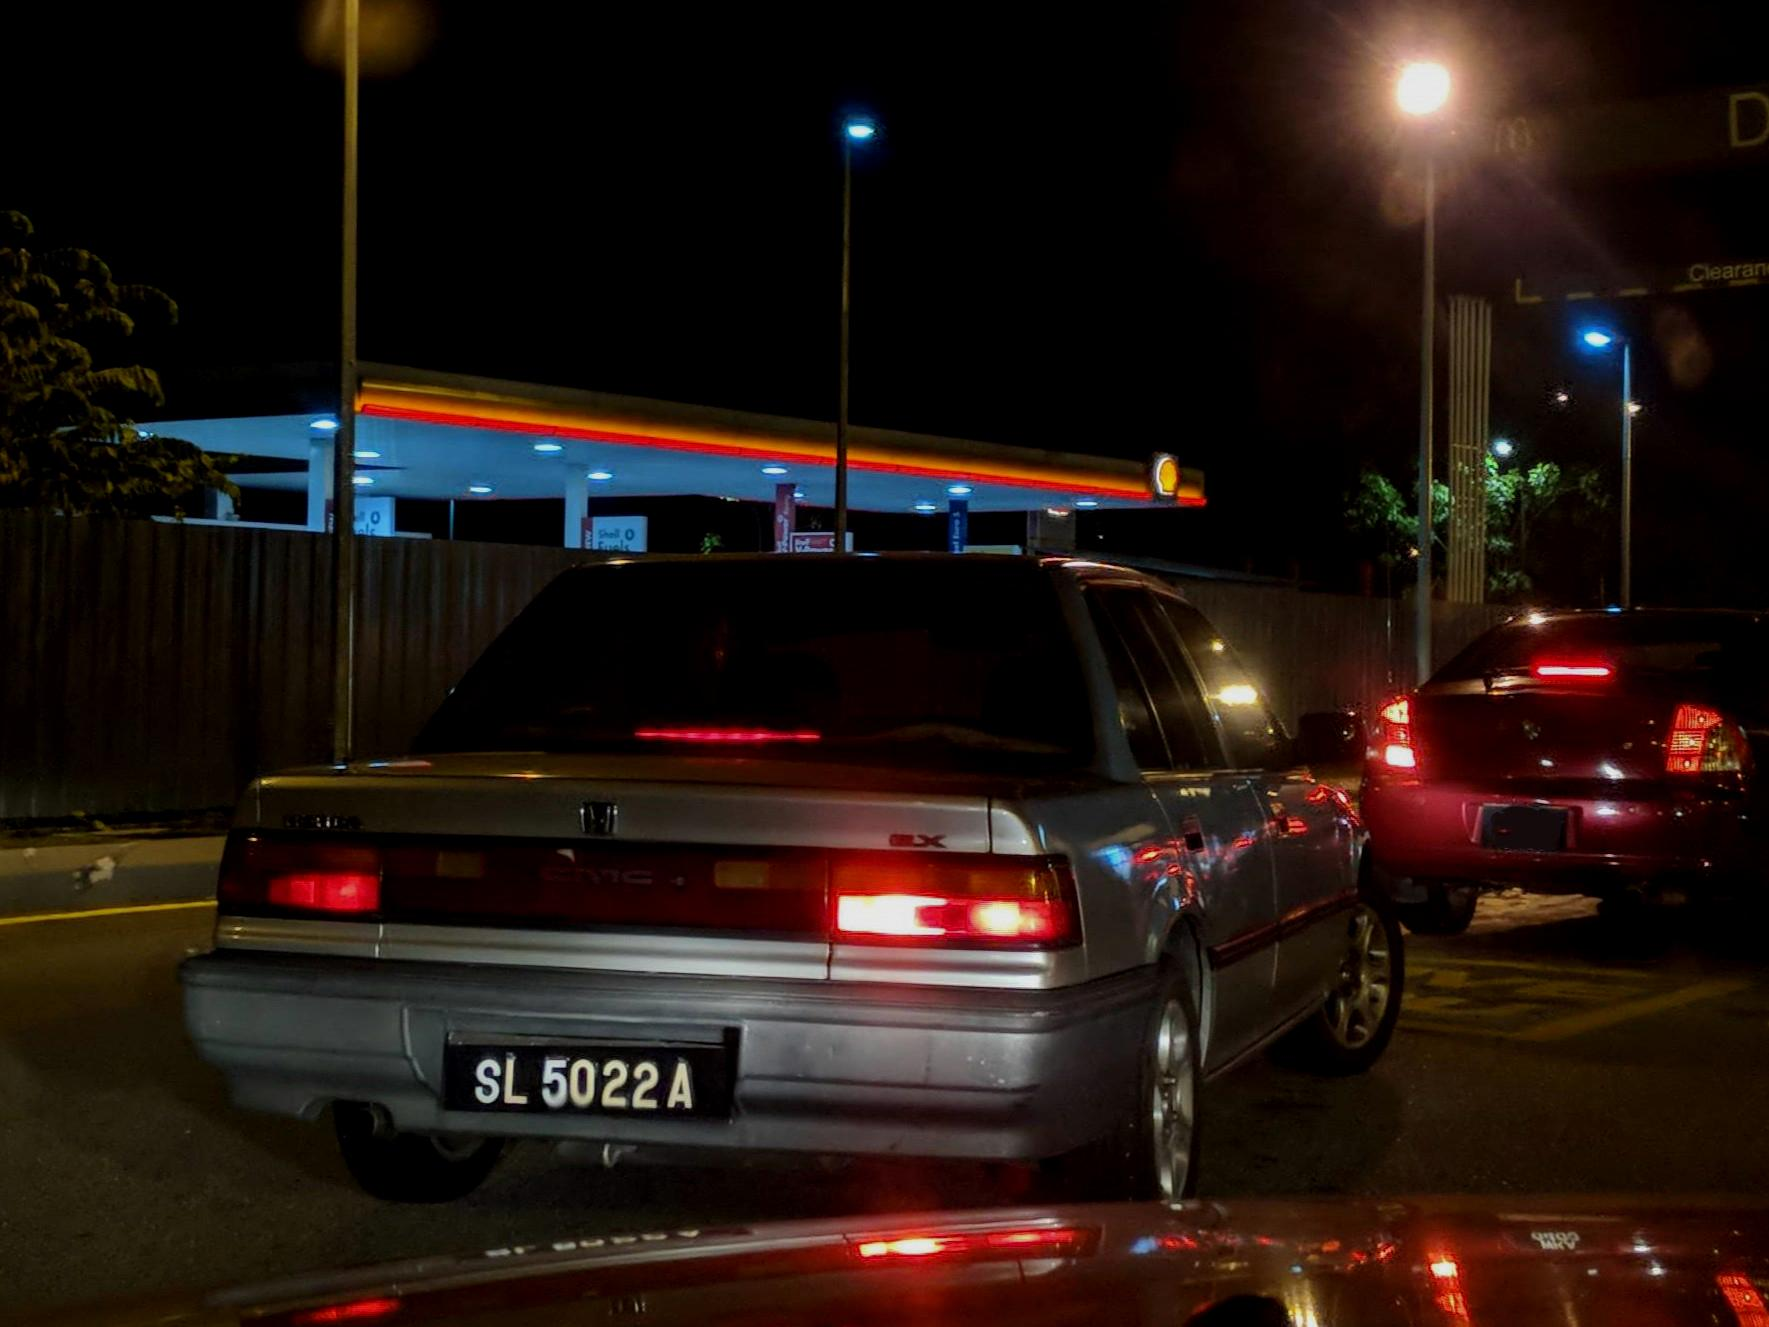License Plate: (449, 1047, 729, 1119)
